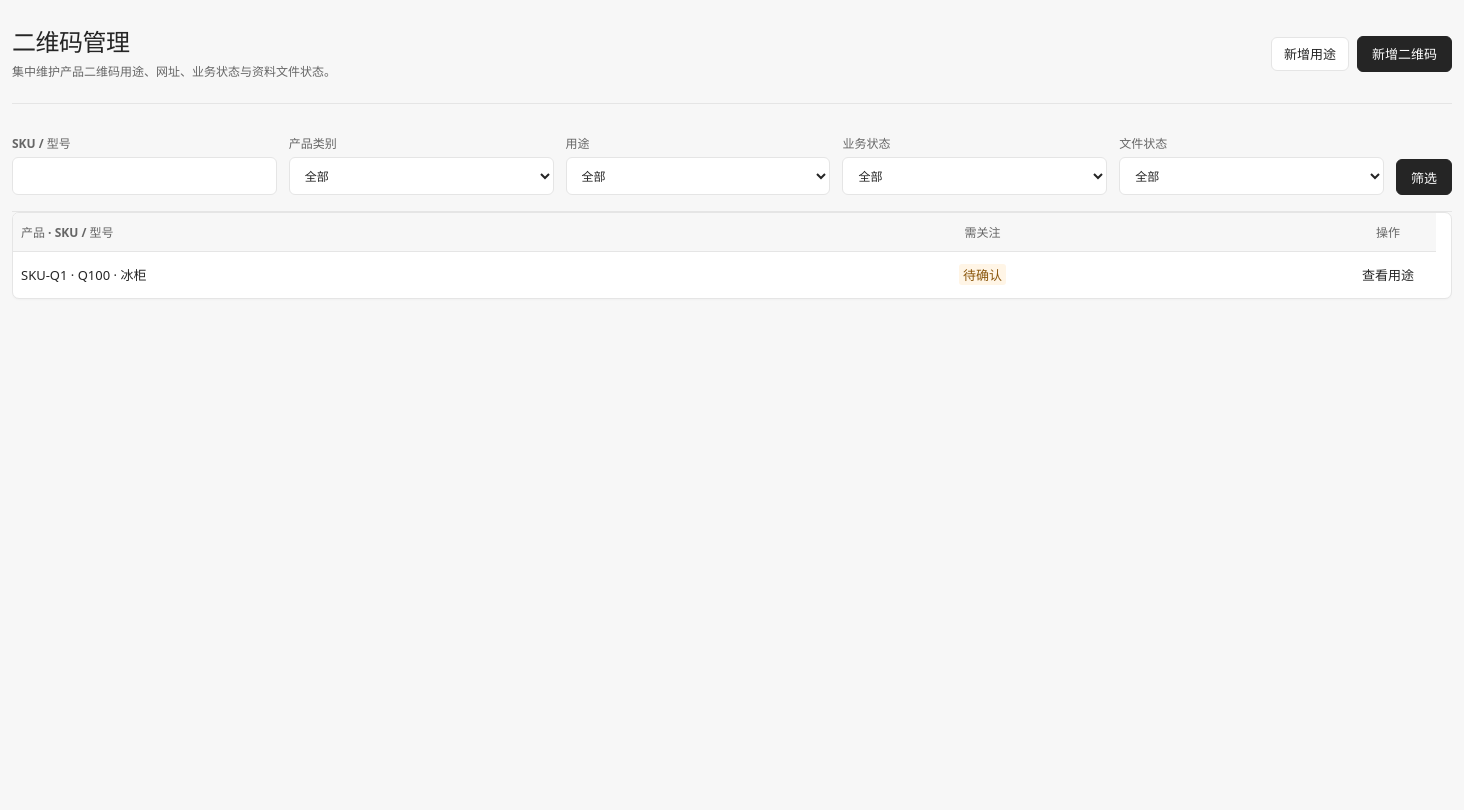
Test case: QrCodesPage › lists independent QR management filters and keeps business and file status distinct in details
Expected: the heading "二维码管理" is shown, [12, 25, 130, 58]
Expected: the field labelled "SKU / 型号" is shown, [12, 157, 277, 195]
Click the button with aria-label "展开 Q100 的二维码用途". click: (1388, 274)
box: [1362, 260, 1414, 288]
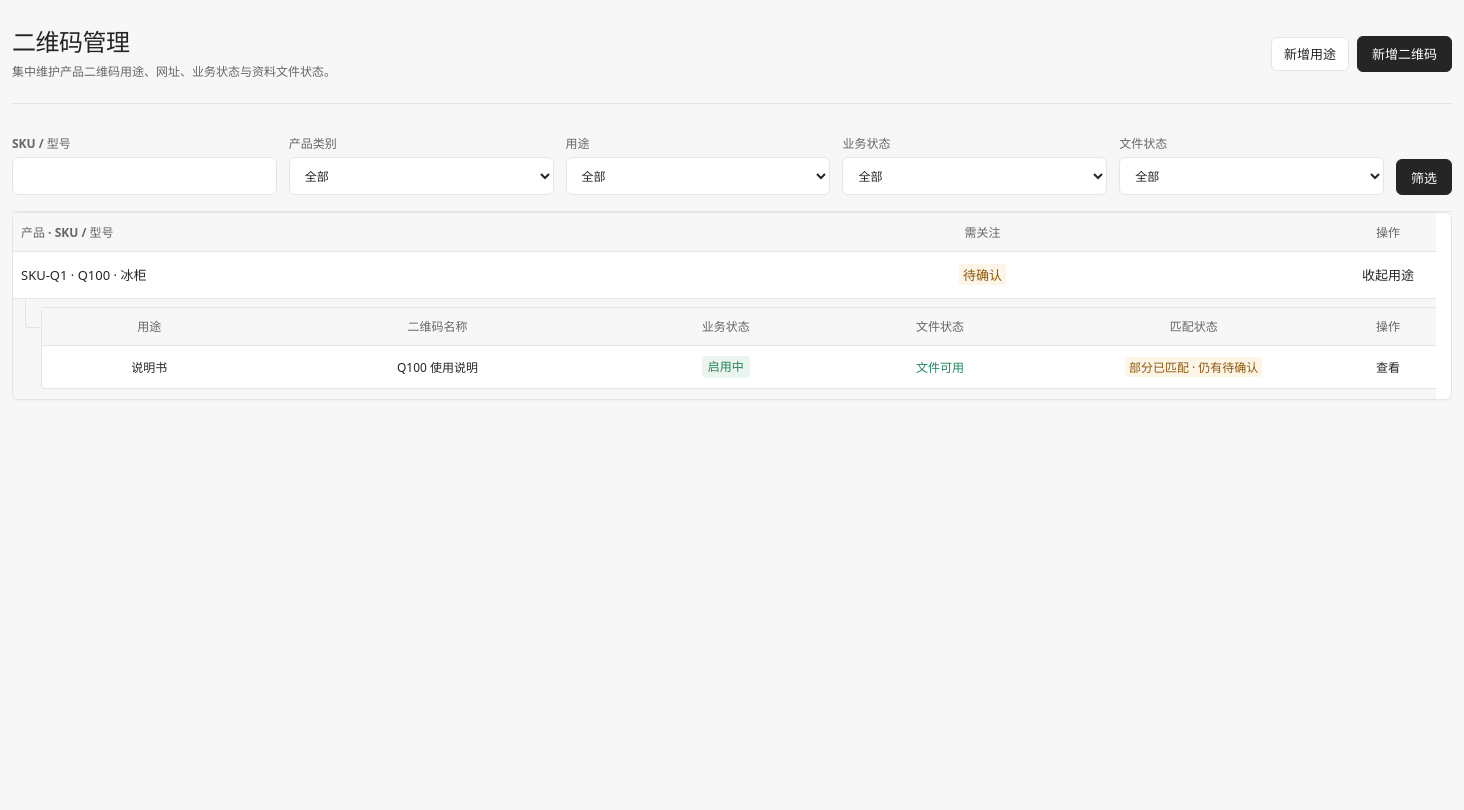
Click the button with aria-label "查看 Q100 使用说明". click: (1388, 367)
box: [1376, 353, 1400, 381]
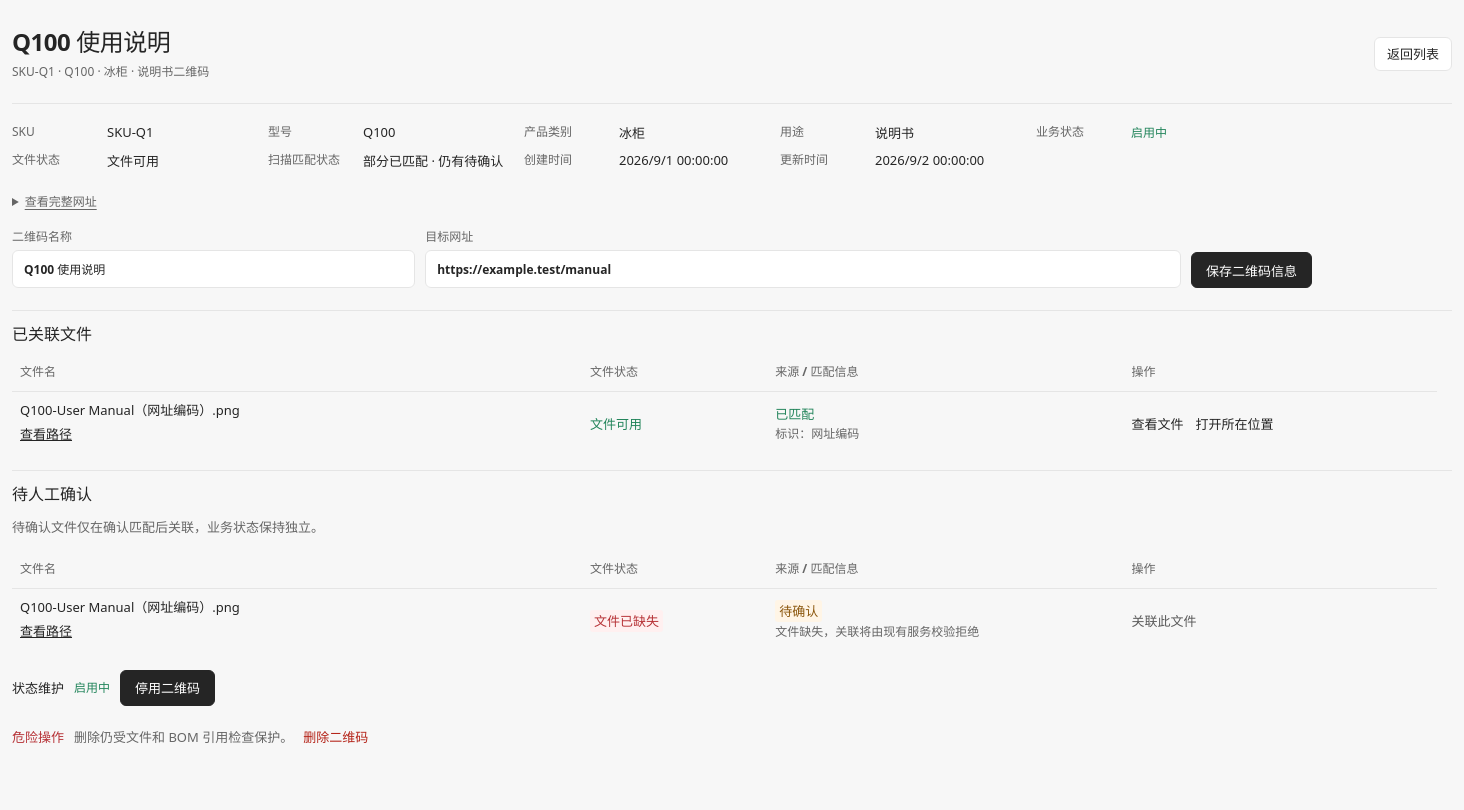
Expected: the text "启用中" in the row of "用途" is shown, [1131, 124, 1167, 140]
Expected: the heading "Q100 使用说明" is shown, [12, 25, 170, 58]
Expected: the text "文件可用" next to "扫描匹配状态" is shown, [107, 152, 159, 170]
